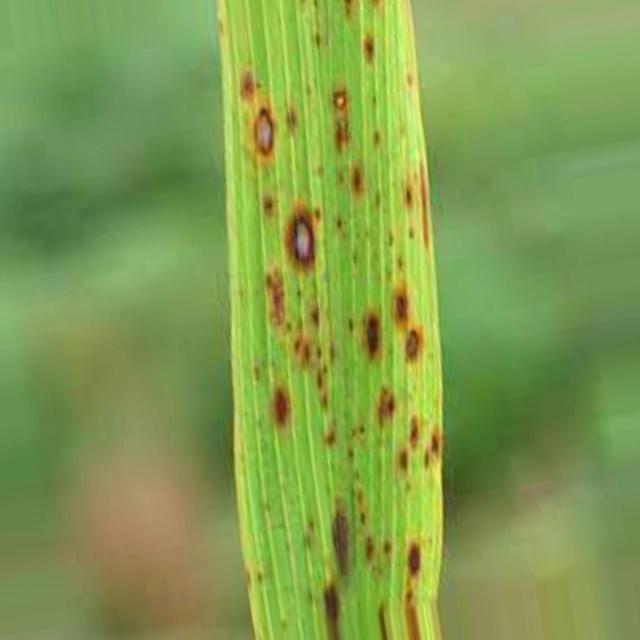Brown_Spot: (288, 209, 315, 268), (265, 271, 285, 326), (332, 515, 349, 575), (332, 89, 349, 149), (255, 108, 274, 154), (324, 585, 340, 639), (419, 165, 428, 245), (274, 389, 290, 426), (366, 315, 380, 356), (379, 390, 395, 421), (405, 329, 420, 359), (294, 335, 310, 363), (408, 544, 420, 575), (241, 72, 254, 100), (395, 294, 408, 321), (379, 601, 388, 640), (362, 38, 374, 61), (405, 185, 416, 210), (410, 416, 419, 446), (318, 370, 326, 402), (430, 430, 439, 454), (399, 448, 408, 471), (325, 426, 335, 445), (366, 536, 374, 559), (352, 168, 361, 188), (311, 306, 319, 324), (382, 539, 390, 551), (368, 538, 370, 542)
